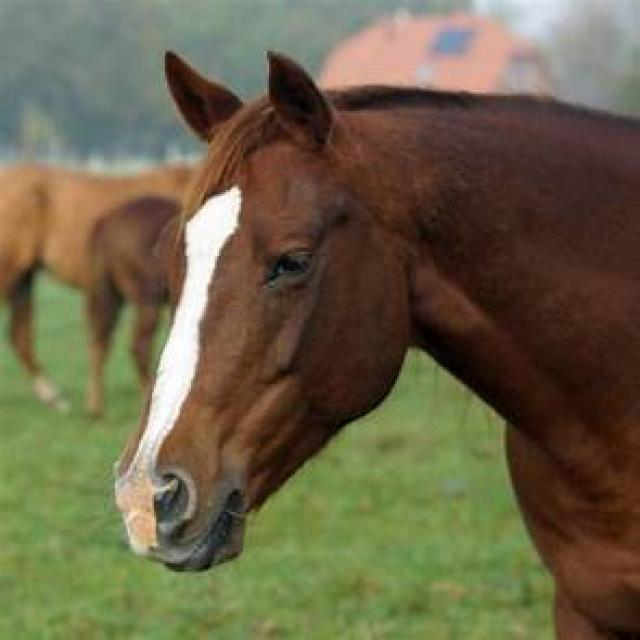horse: (117, 52, 638, 639)
